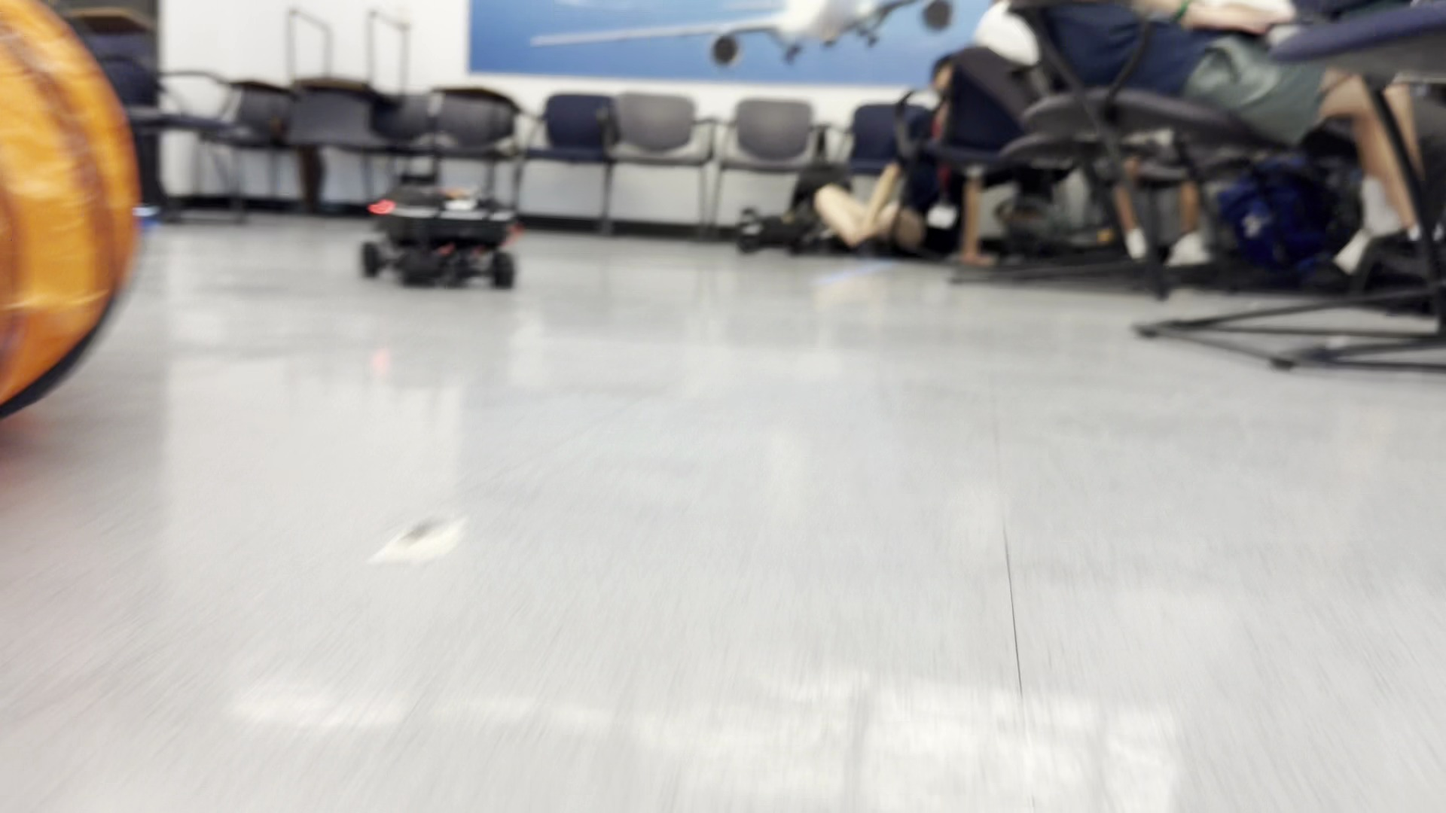racecar: (362, 175, 521, 289)
